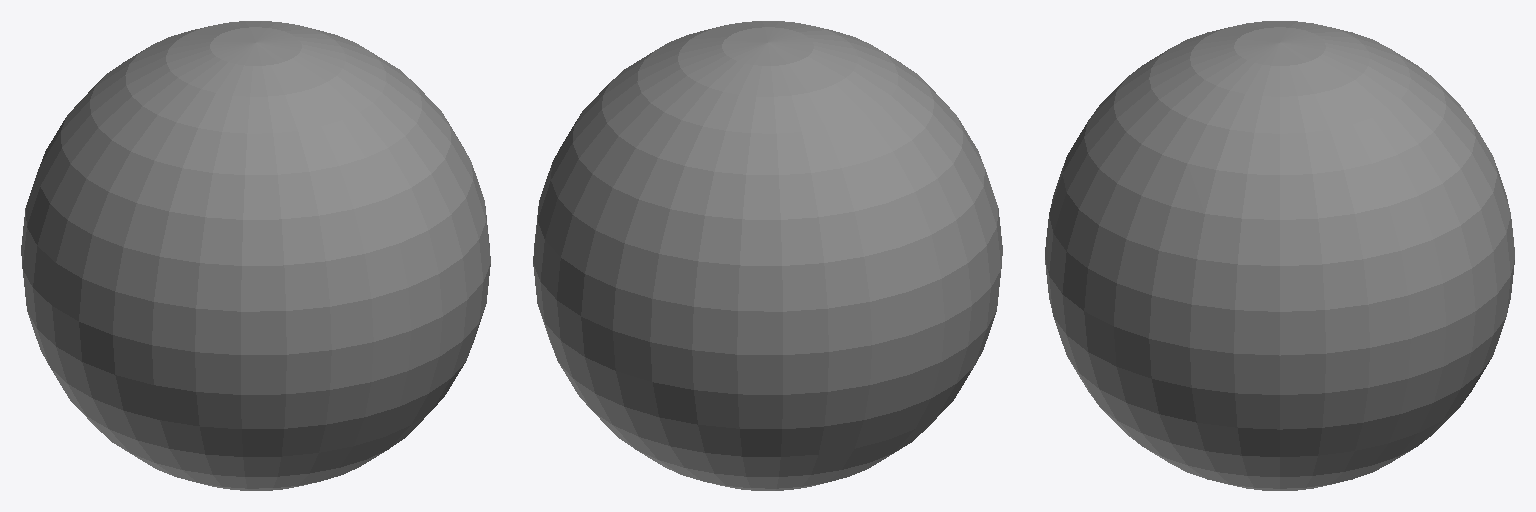
File: Earth.obj
3 views of the same model, side by side, from view 1: azimuth 30°, elevation 25°; view 2: azimuth 150°, elevation 25°; view 3: azimuth 270°, elevation 25° (orthographic).
Parts seen in each view (by area): view 1: Sphere001; view 2: Sphere001; view 3: Sphere001.
Part boxes in pixels (left/top/right/bottom): Sphere001: left=21, top=21, right=490, bottom=490; Sphere001: left=533, top=21, right=1002, bottom=490; Sphere001: left=1045, top=21, right=1514, bottom=490.
Bounding box in the file's own units: 162 × 162 × 162.